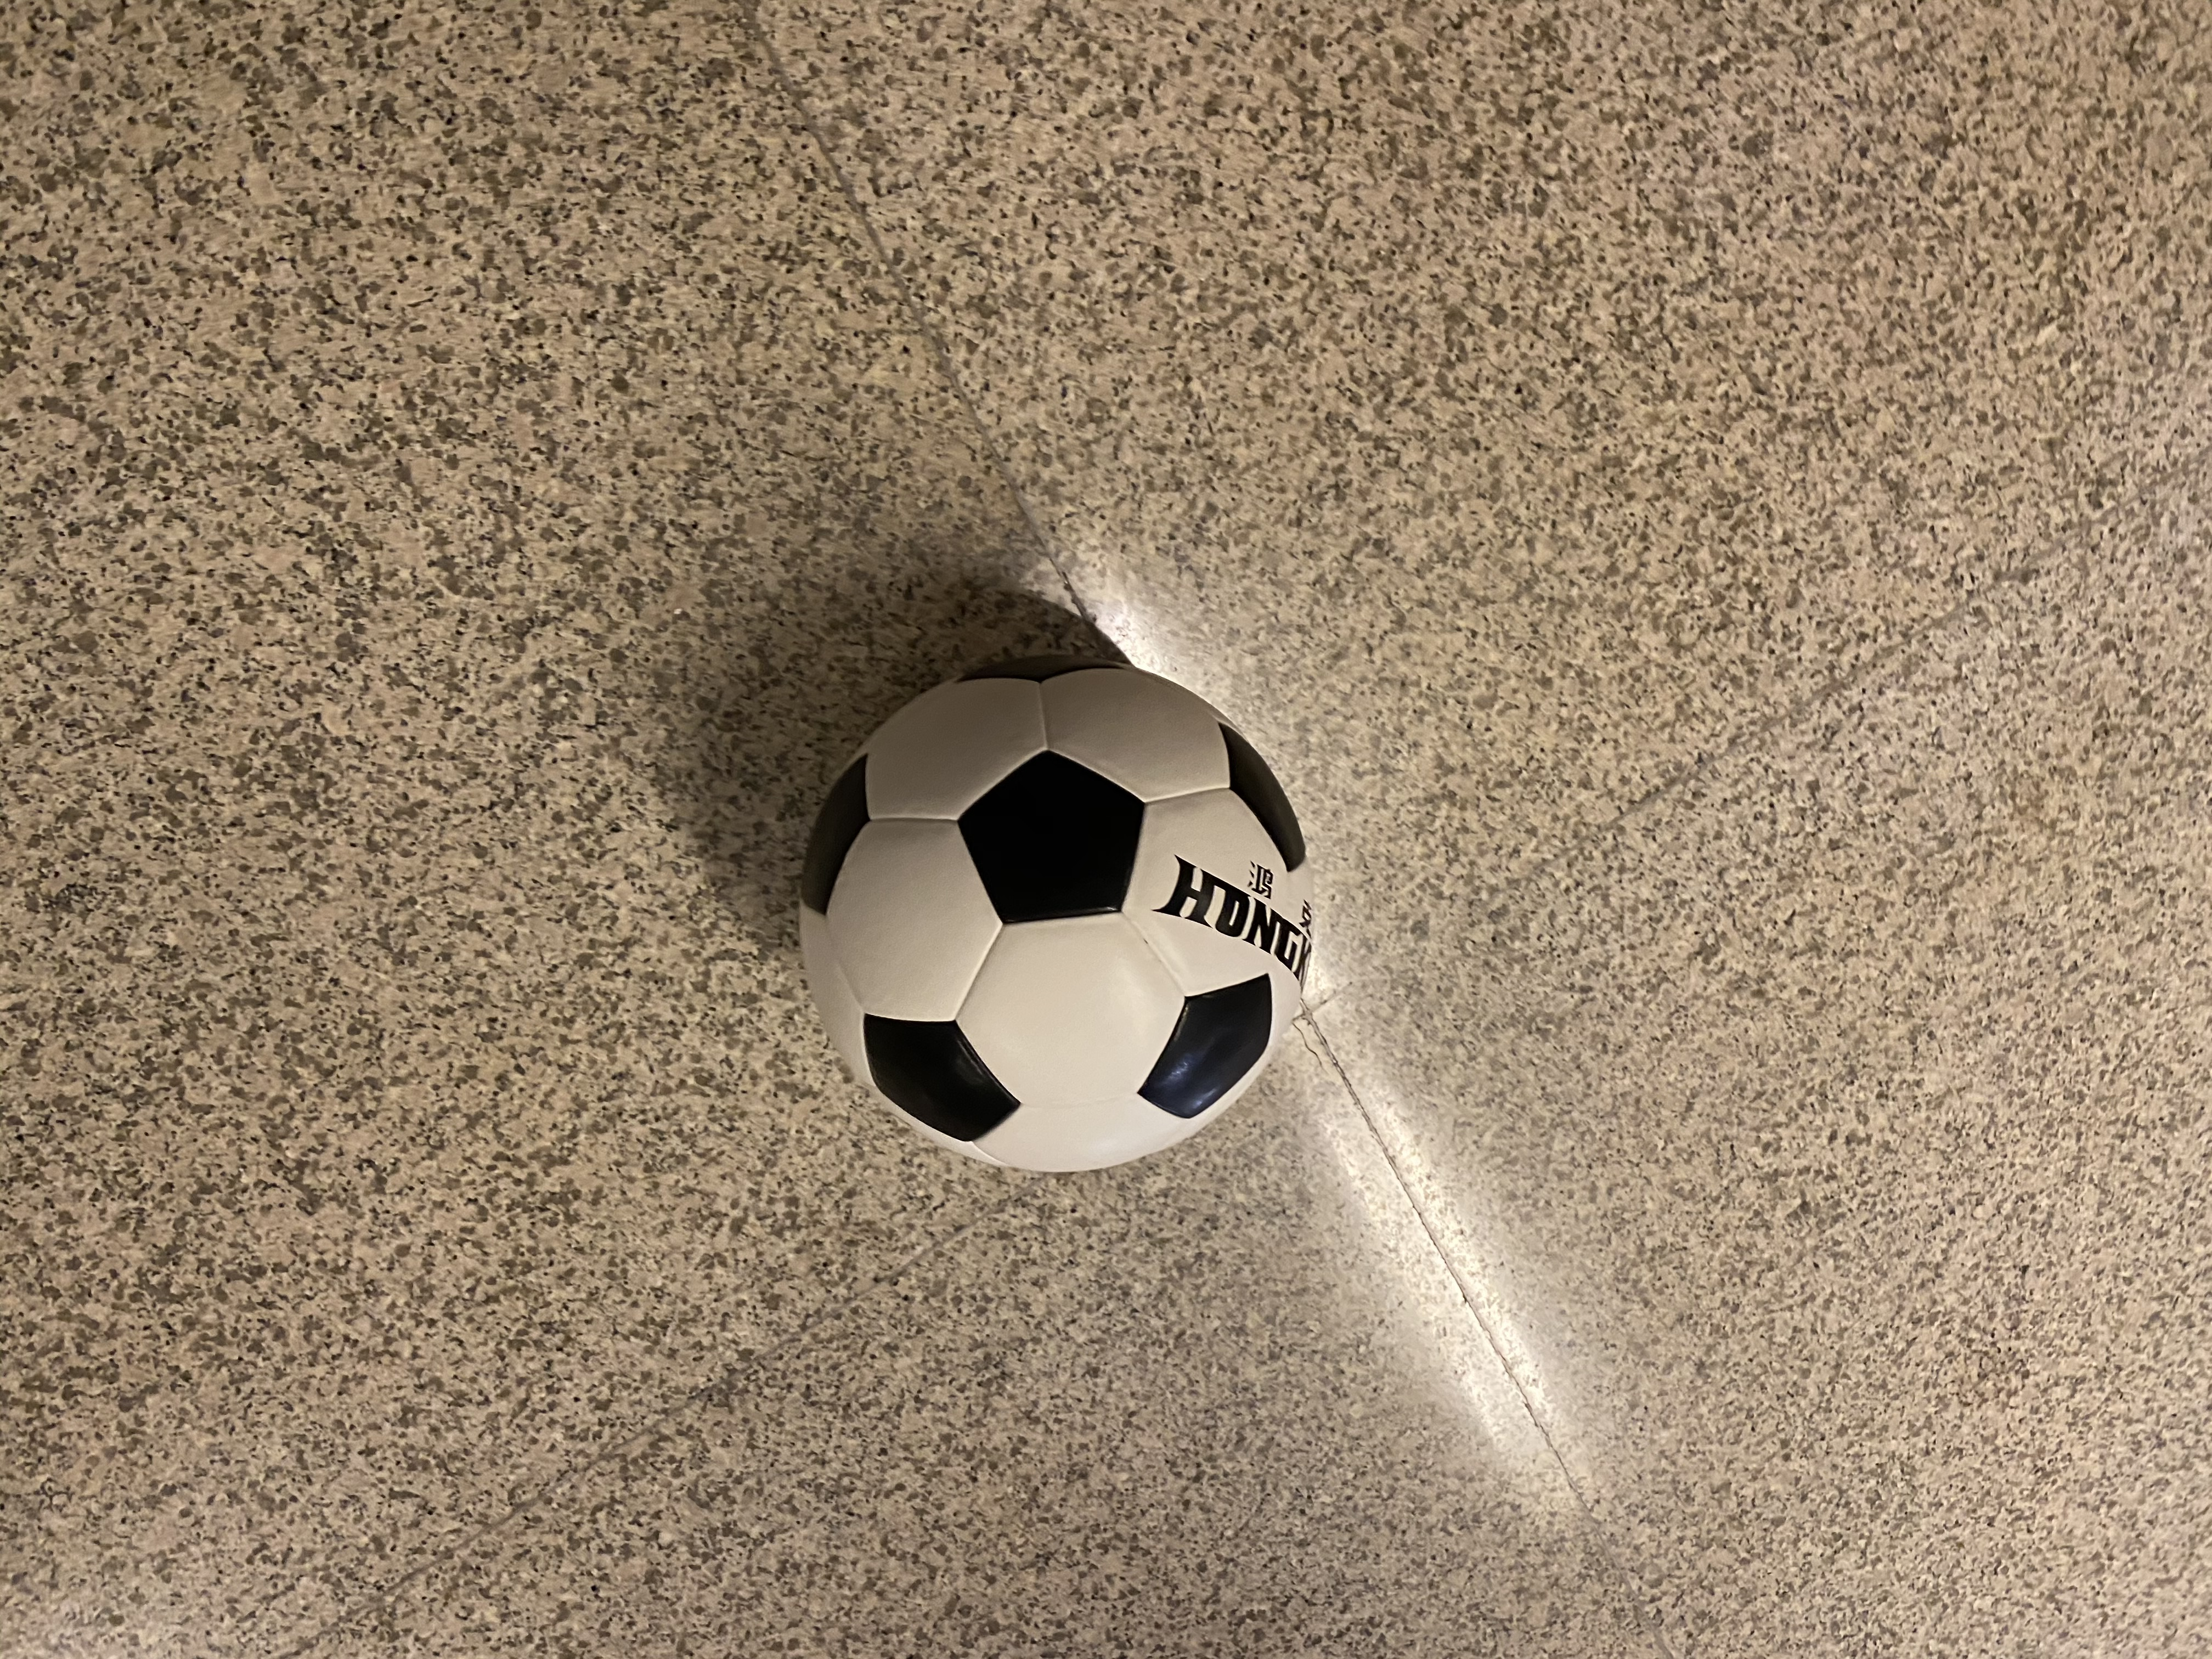football: (805, 666, 1305, 1164)
